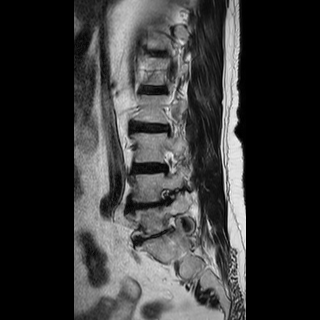RFS0: (154, 147, 184, 181)
RFS3: (153, 182, 182, 213)
